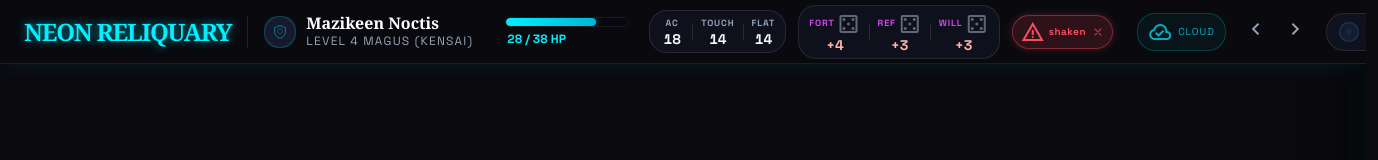
Scenario: TacticalHUD Component › Suite 1: Rendering & Character State › updates immediately when active character changes
Click the button named "Next character".
click(1296, 32)  # box [1278, 10, 1314, 52]
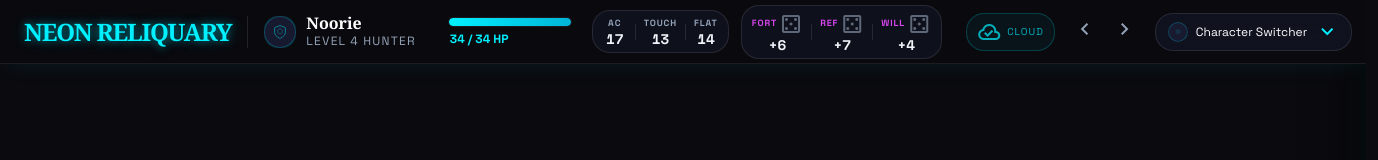
Now the heading "Noorie" is shown, box [306, 12, 362, 34]
Now the text "Level 4 Hunter" is shown, box [306, 32, 416, 48]
